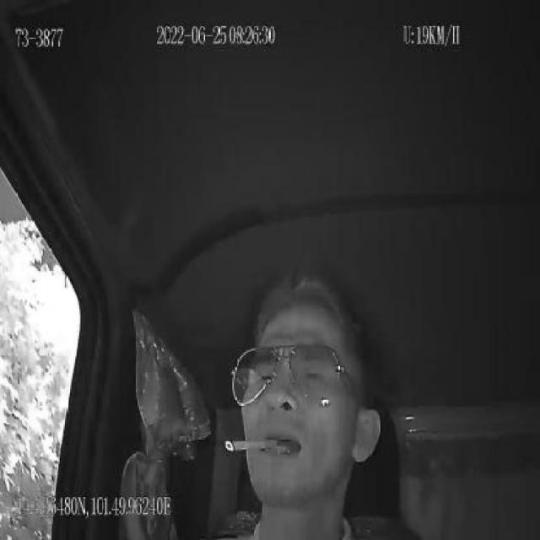smoking: (223, 433, 278, 454)
